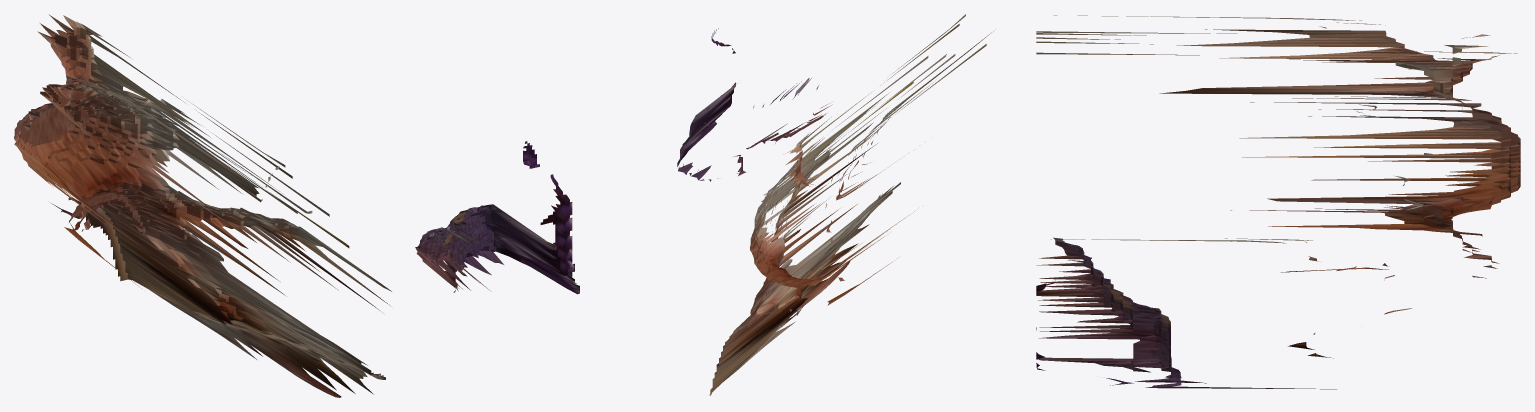
The model's file is frame_00306.glb.
3 renders of one model, left to right at view 1: azimuth 30°, elevation 25°; view 2: azimuth 150°, elevation 25°; view 3: azimuth 270°, elevation 25°, orthographic. The views are drawn at different scales.
Visible parts, largest first — view 1: geometry_0; view 2: geometry_0; view 3: geometry_0.
Part boxes in pixels (box(x1,y1,x2,y2)): geometry_0: box(14, 14, 579, 397); geometry_0: box(677, 14, 993, 395); geometry_0: box(1036, 15, 1520, 389).
Bounding box in the file's own units: 0.1417 × 0.1154 × 0.16.
1 material, 1 textured.
